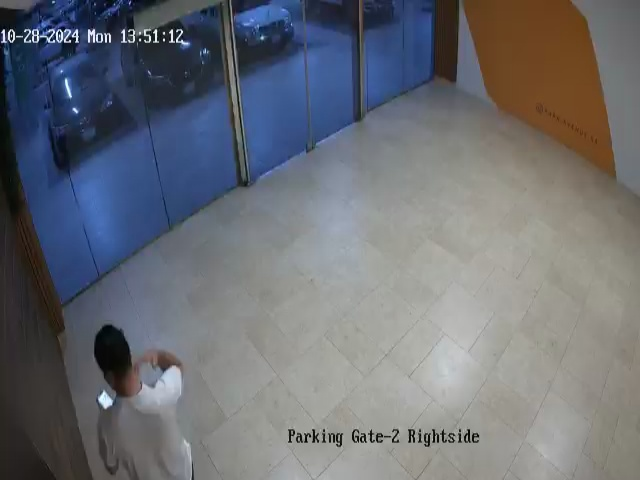male: (92, 324, 194, 480)
